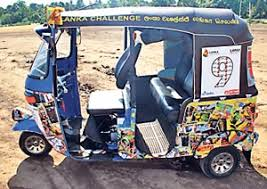tuk tuk: (11, 5, 260, 178)
